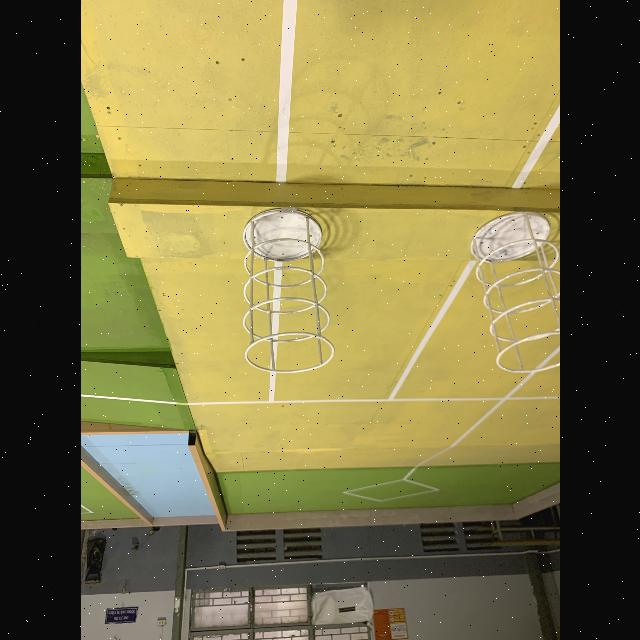S: (242, 208, 336, 374), (467, 213, 559, 375)
